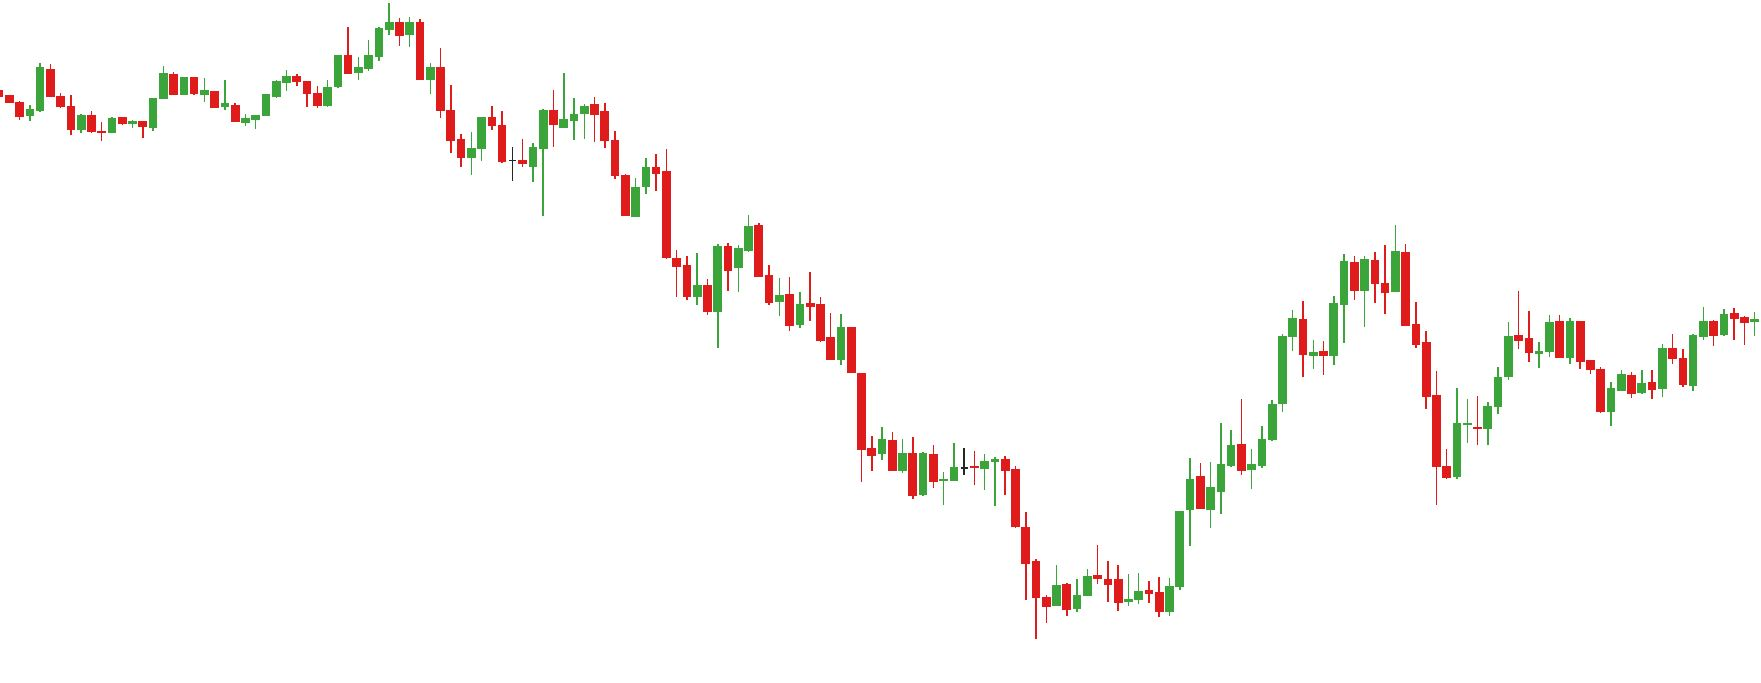buy: (1248, 362, 1462, 507)
